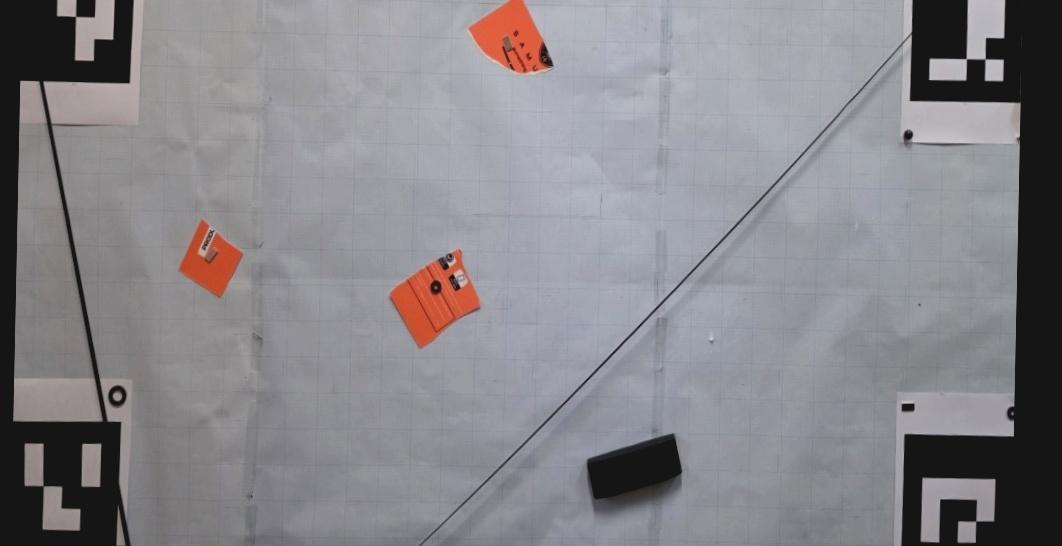obstacle: (390, 249, 481, 349), (468, 0, 554, 75), (586, 434, 682, 500), (178, 217, 244, 299)
